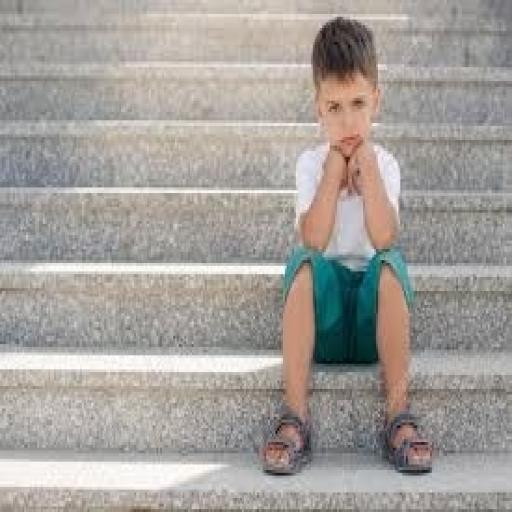sitting: (255, 14, 438, 478)
